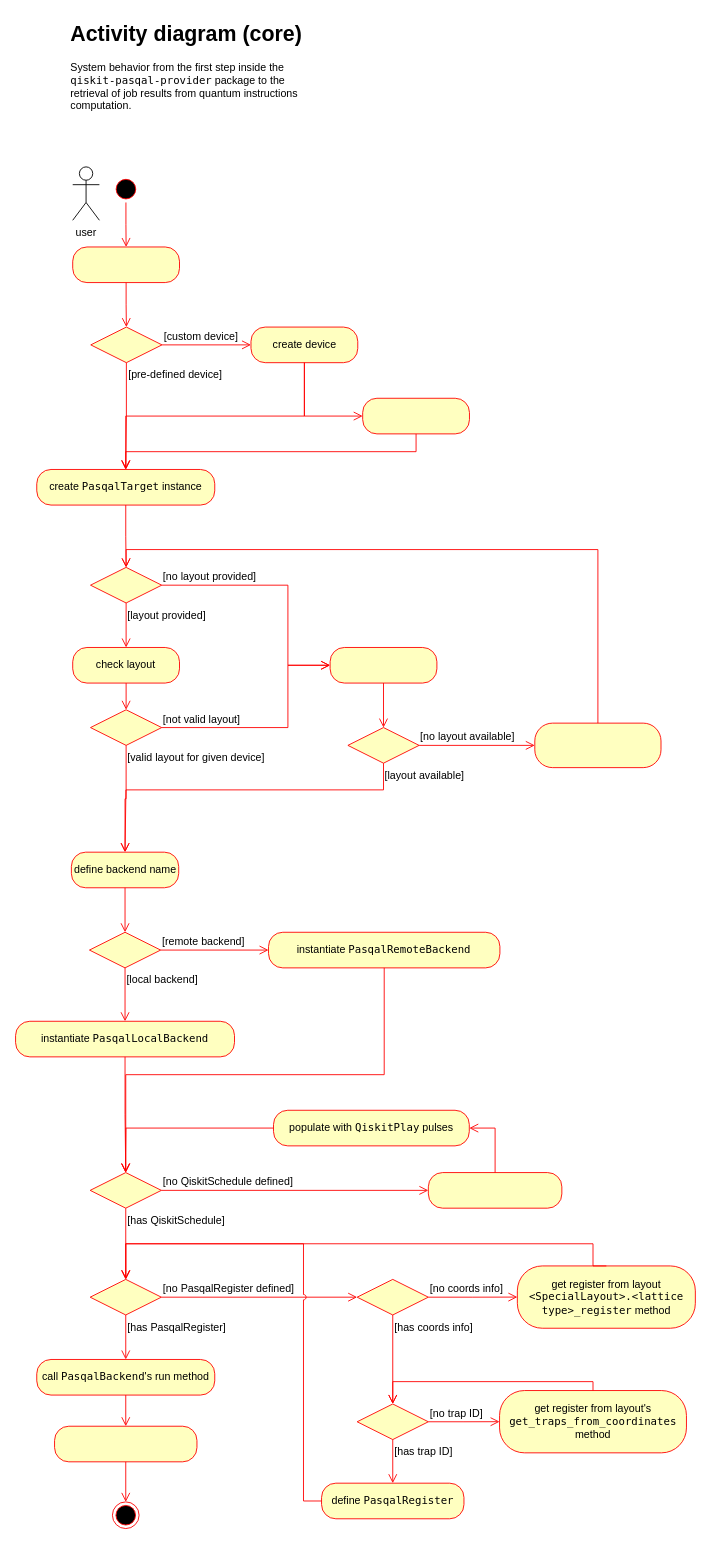
This 711x1544 diagram has some shape labels left out. The box of each missing label's shape, as (x1, y1, x2, y2) in pixels:
add layout: (362, 397, 469, 434)
create QiskitSchedule: (427, 1172, 562, 1208)
define a device: (72, 246, 180, 283)
define a layout through PasqalLayout: (534, 722, 661, 768)
receive PasqalJob result: (54, 1425, 197, 1462)
use device layout: (329, 647, 437, 683)
